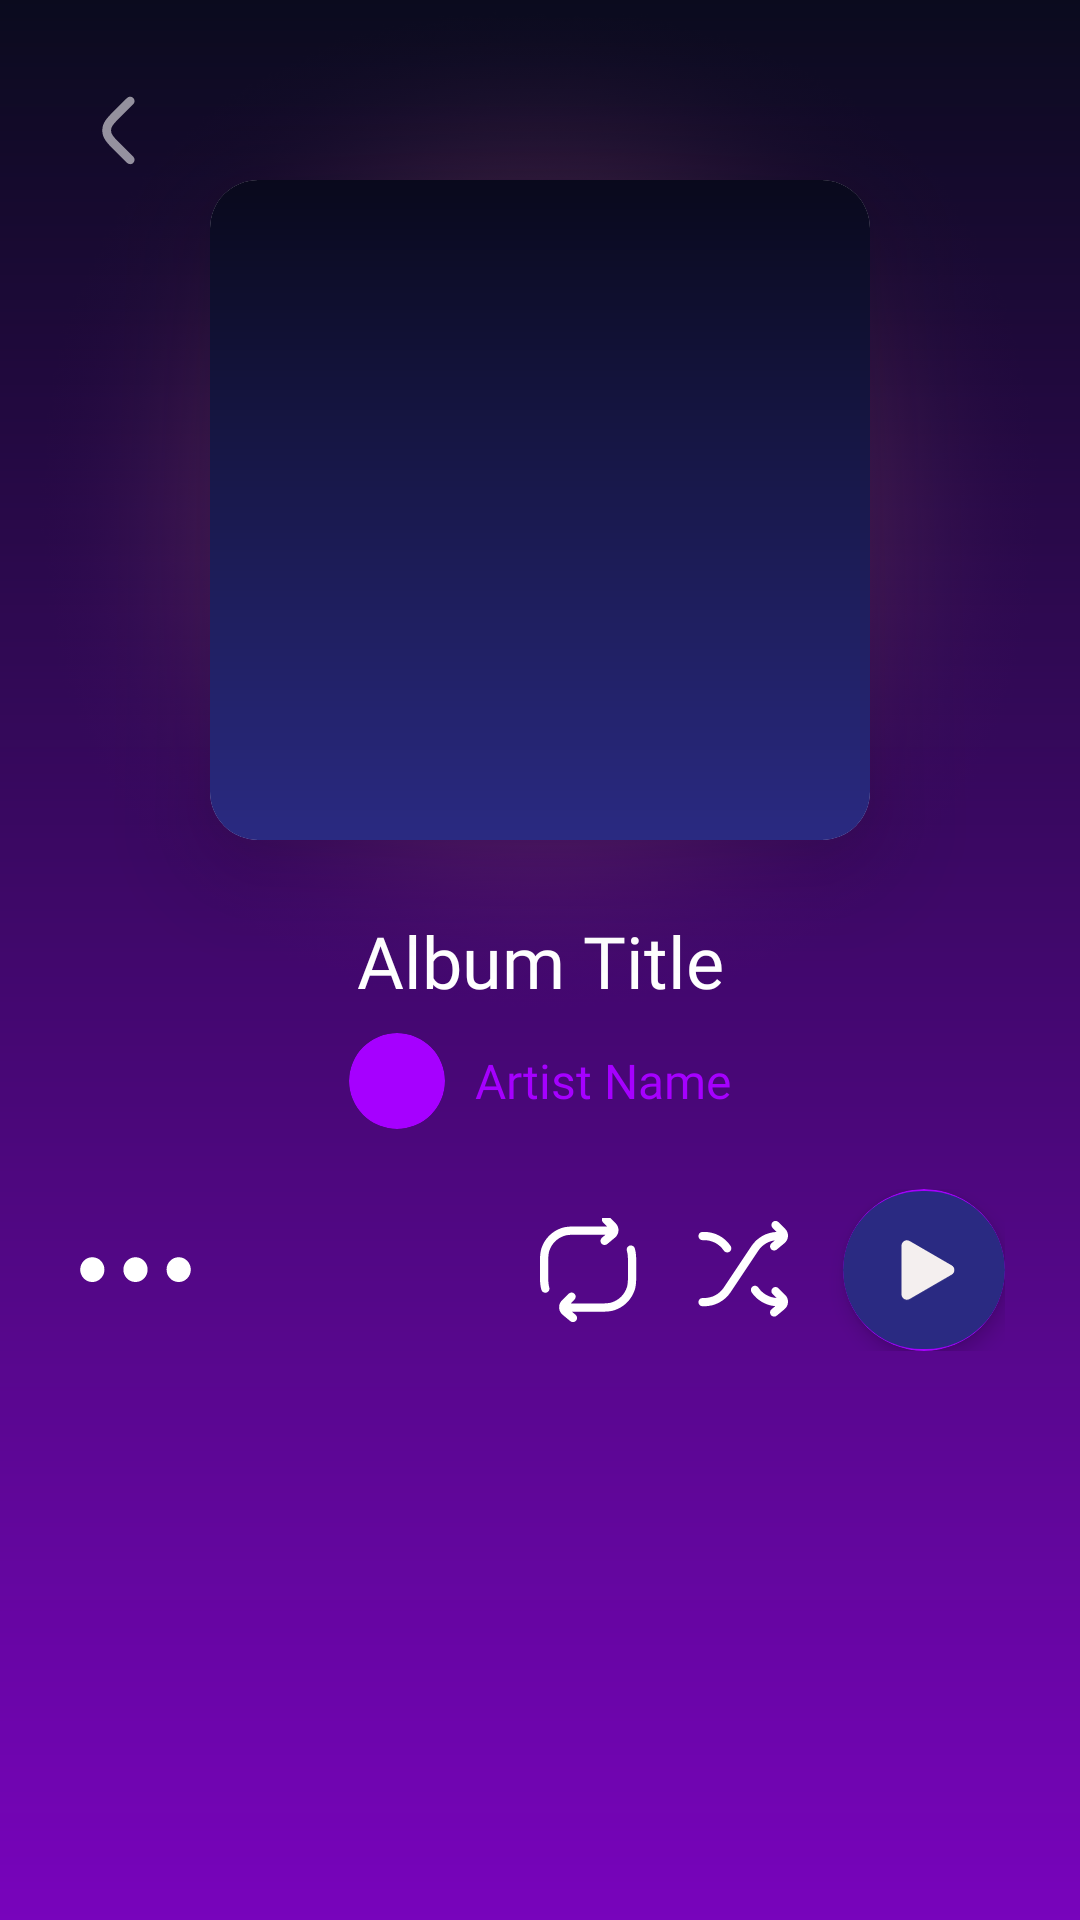

Icon bounding boxes for this 1080px×1920px phone screenshot, format (x1, y1, x2, y2):
back: (102, 96, 135, 164)
more: (80, 1257, 191, 1282)
play: (843, 1189, 1005, 1351)
repeate: (540, 1218, 637, 1322)
shuffle: (698, 1221, 788, 1317)
